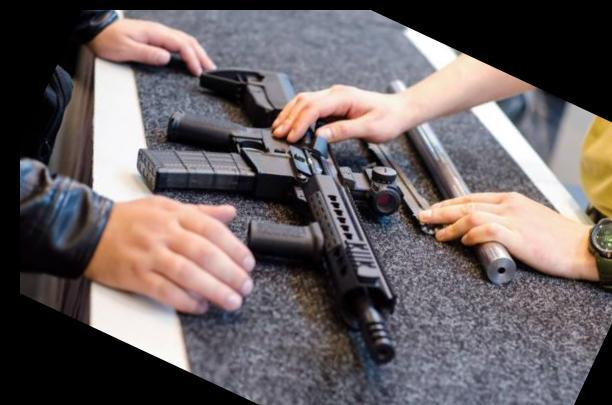larga: (135, 66, 397, 367)
